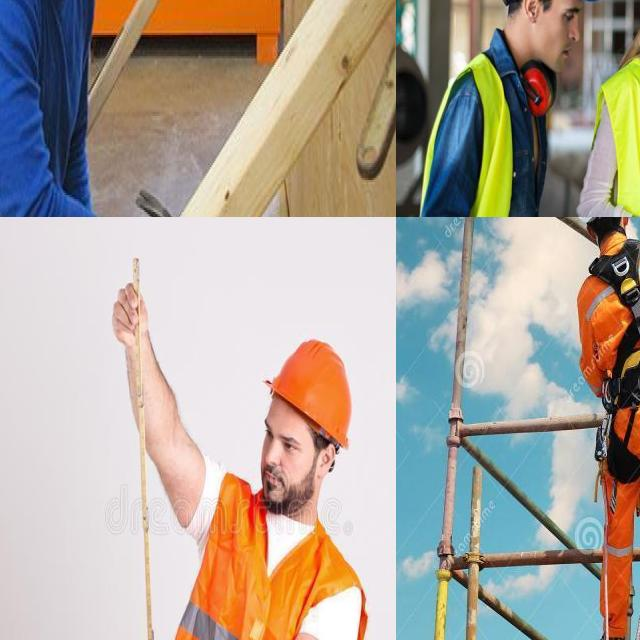Harness: (590, 239, 640, 412)
face_nomask: (248, 406, 315, 524), (528, 0, 584, 86)
hand_noglove: (106, 277, 159, 363)
head_helmet: (270, 336, 355, 441)
person: (120, 277, 363, 640), (396, 0, 594, 217)
vest: (166, 511, 353, 640), (435, 62, 551, 217)
